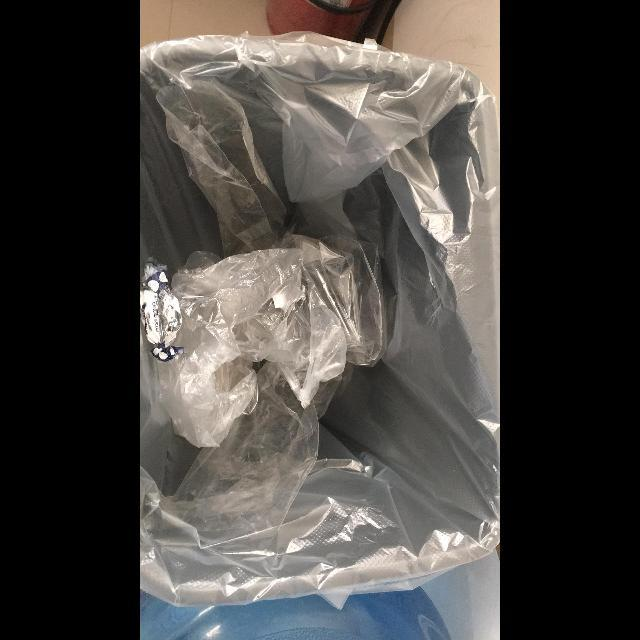plastic: (157, 236, 387, 534)
wrapper: (140, 263, 181, 360)
